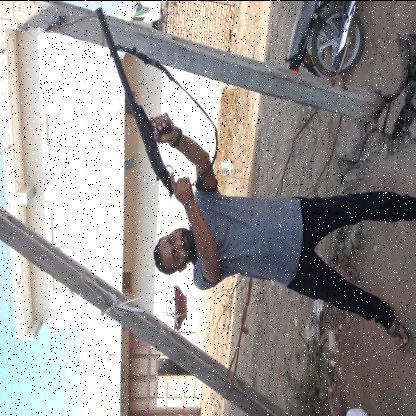rifle: (94, 5, 194, 202)
